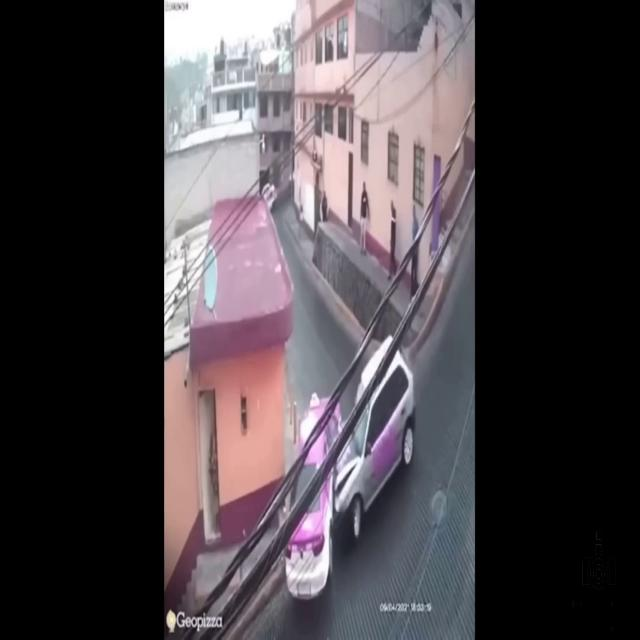accident: (293, 354, 413, 570)
